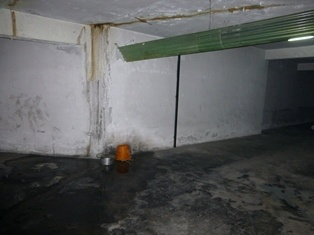bowl: (99, 152, 115, 166)
bucket: (113, 142, 133, 165)
